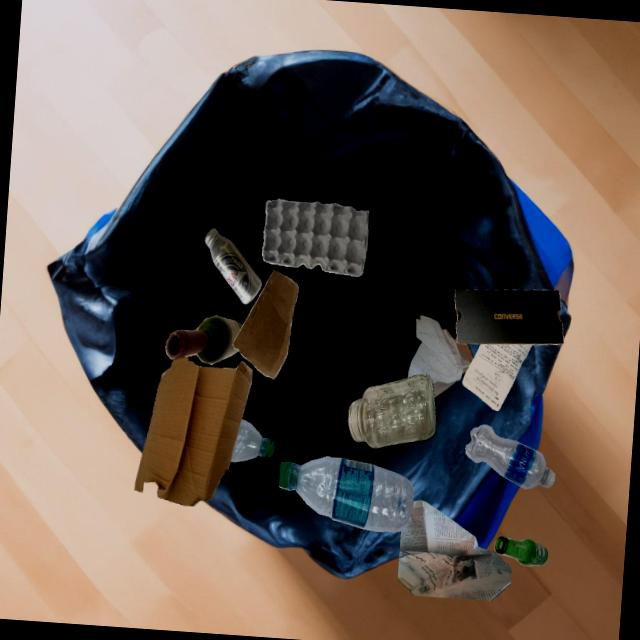cardboard: (134, 356, 252, 506), (261, 198, 369, 276), (232, 269, 298, 379), (454, 289, 563, 344)
glass: (347, 373, 436, 449), (165, 315, 242, 364), (494, 536, 548, 566)
metal: (203, 227, 261, 305)
paper: (397, 500, 512, 601), (407, 314, 473, 398), (462, 344, 532, 411)
plastic: (278, 456, 413, 531), (465, 424, 554, 489), (230, 419, 274, 462)
